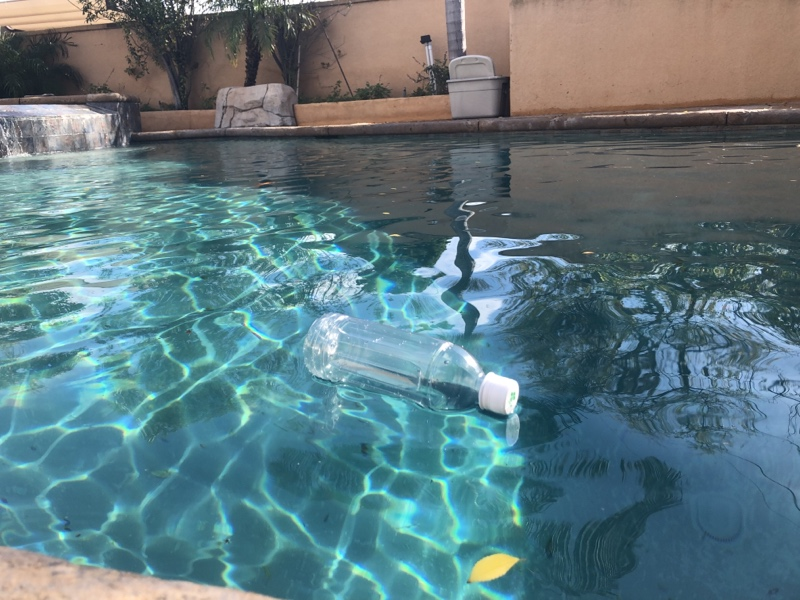Plastic Bottle: (301, 305, 522, 427)
